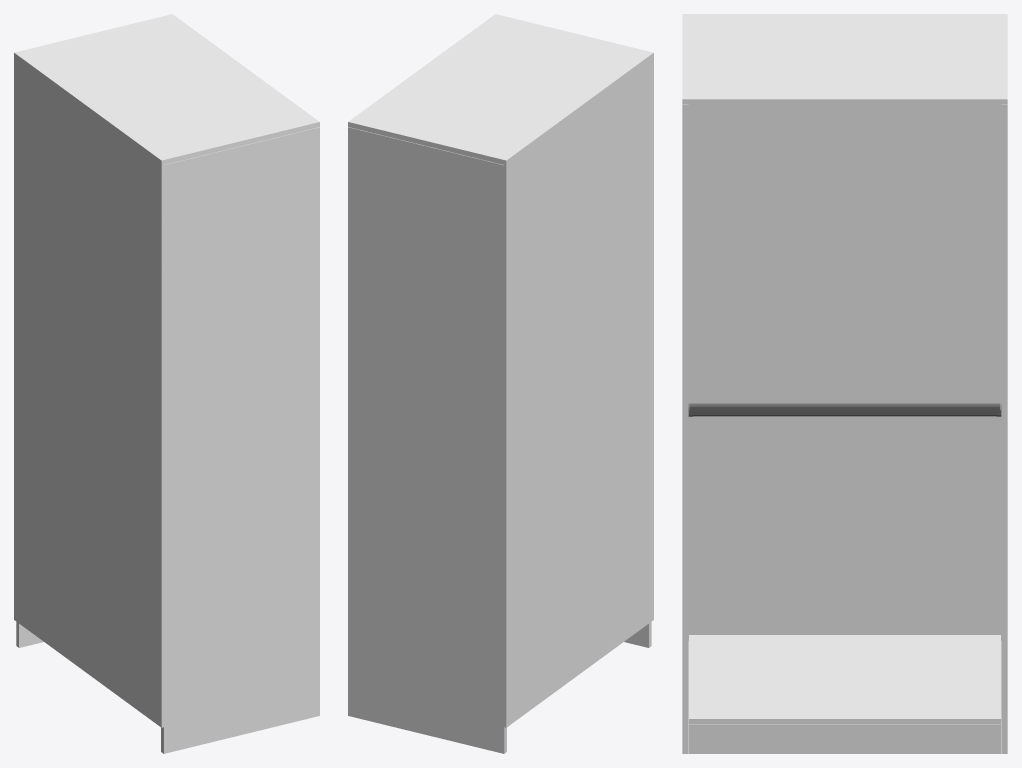
File: TA-K1-MODUL2-37-MAIN.glb
3 renders of one model, left to right at view 1: azimuth 30°, elevation 25°; view 2: azimuth 150°, elevation 25°; view 3: azimuth 270°, elevation 25°, orthographic. The views are drawn at different scales.
Parts seen in each view (by area): view 1: MAIN, BACK; view 2: MAIN, BACK; view 3: BACK, MAIN, OVAN.
Part boxes in pixels (x1,y1,x2,y2): MAIN: [16, 14, 319, 753]; BACK: [14, 52, 163, 727]; MAIN: [348, 14, 651, 753]; BACK: [504, 52, 653, 727]; BACK: [682, 14, 1007, 640]; MAIN: [682, 15, 1007, 753]; OVAN: [688, 403, 1001, 416].
Bounding box in the file's own units: 0.558 × 2 × 0.9.
3 materials, 2 textured.
